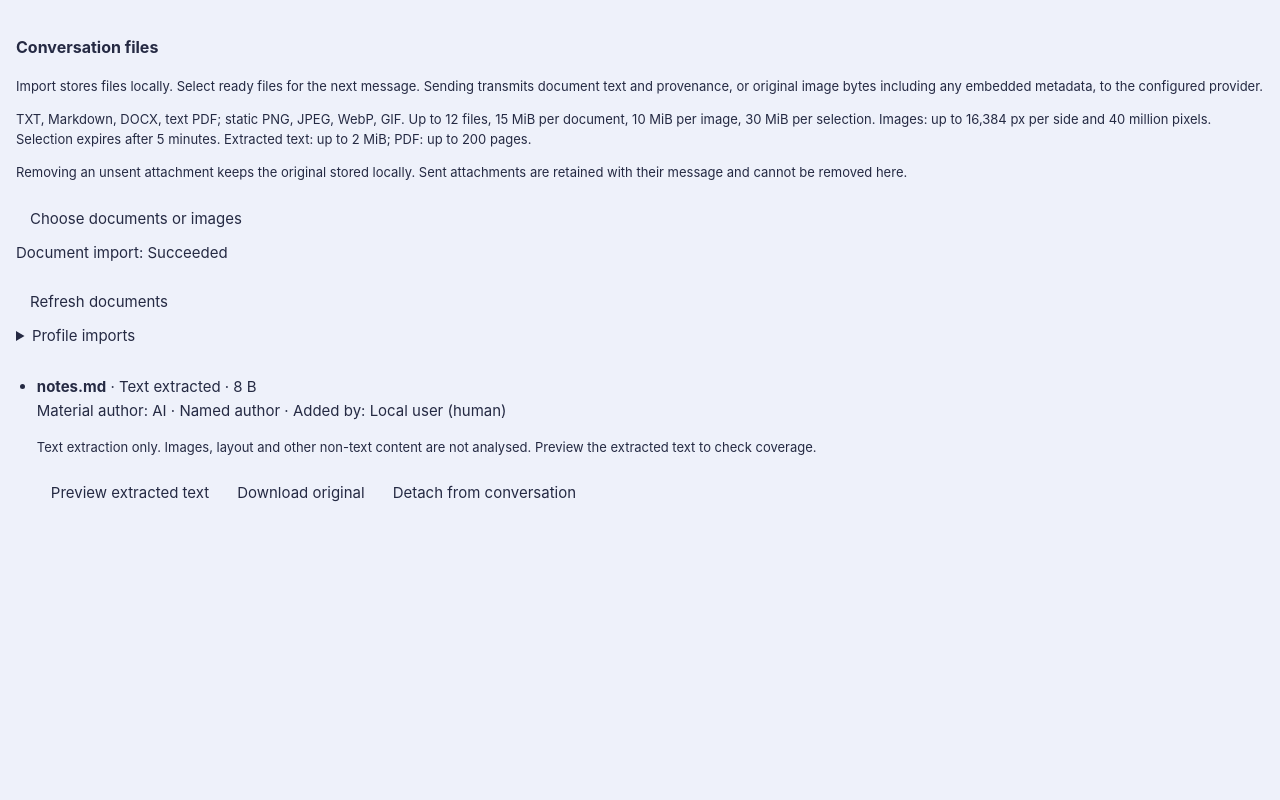
Scenario: preview renders inert text and explicitly fetches more pages
Click the button "Preview extracted text" at (130, 493), box [37,470,223,515]
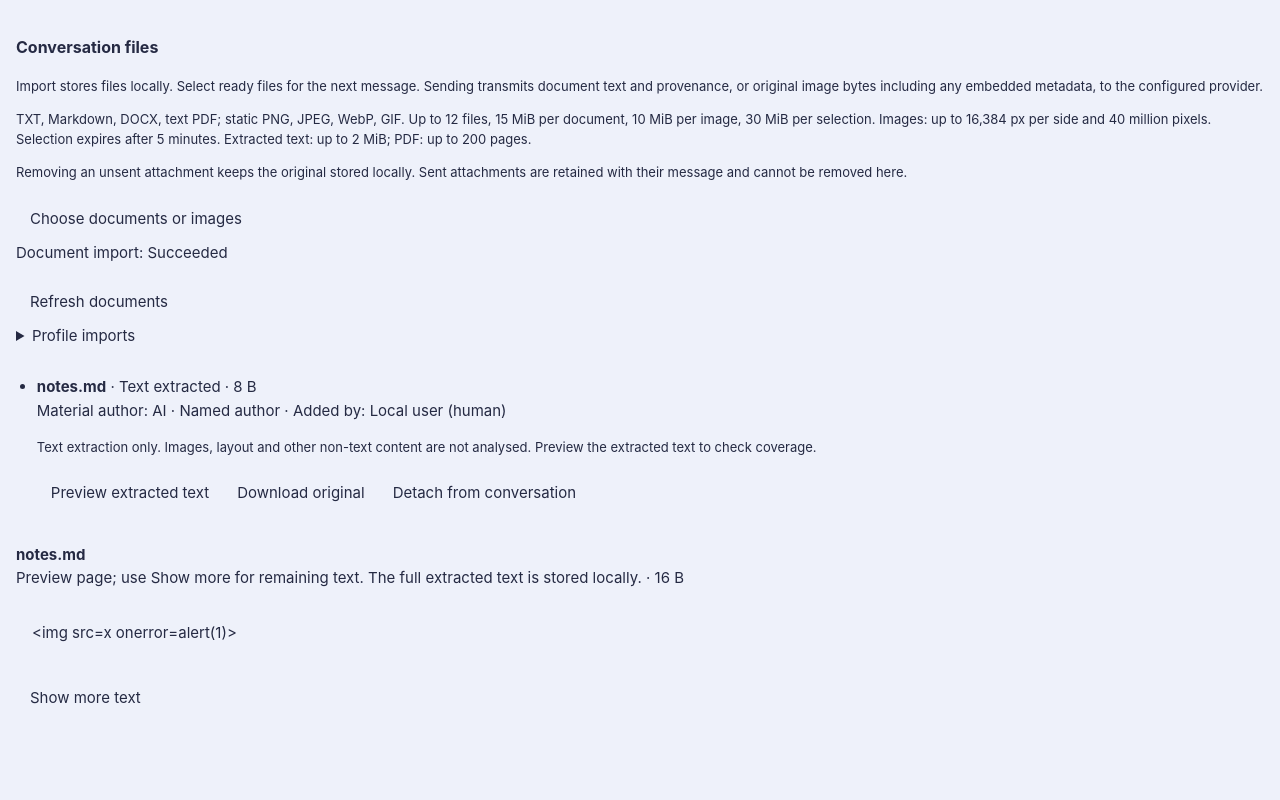
Click the button "Show more text" at (85, 697), box [16,675,155,720]
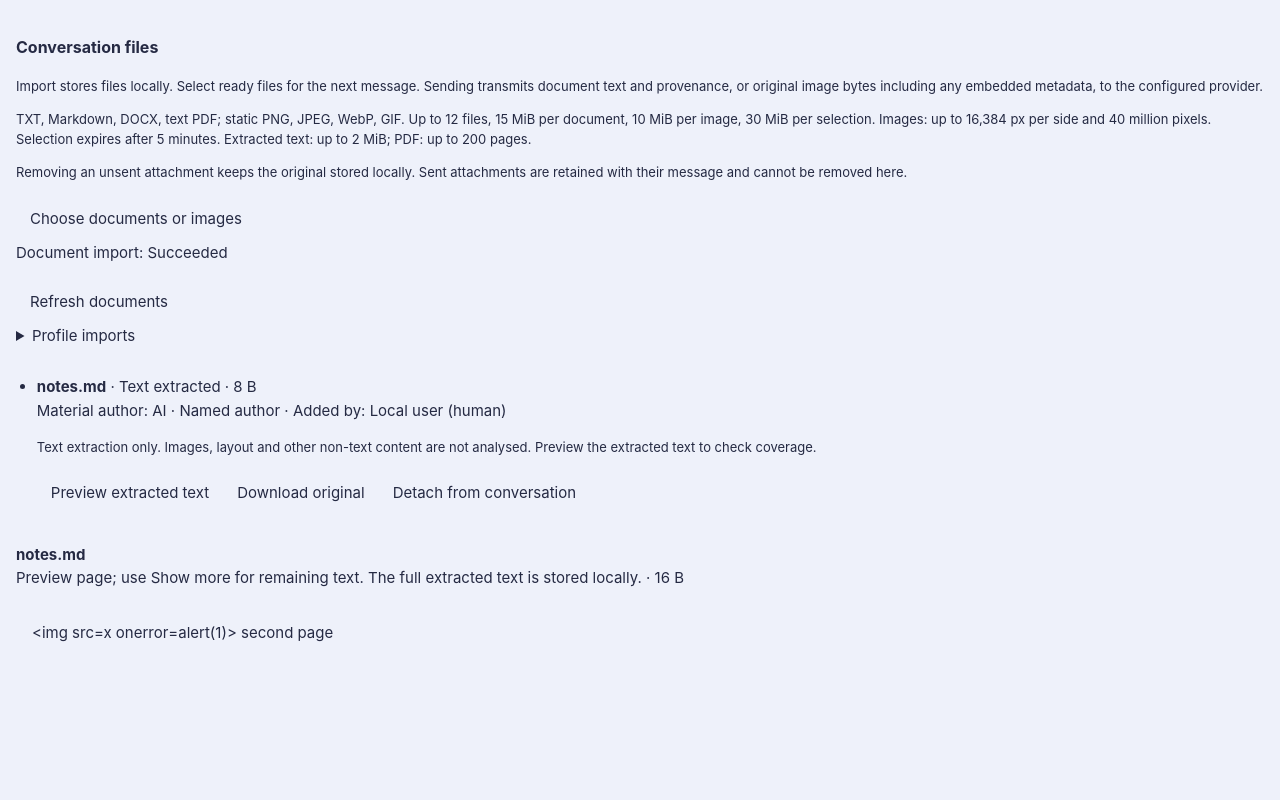
Expected: the text "second page" is shown, [32,622,333,642]
